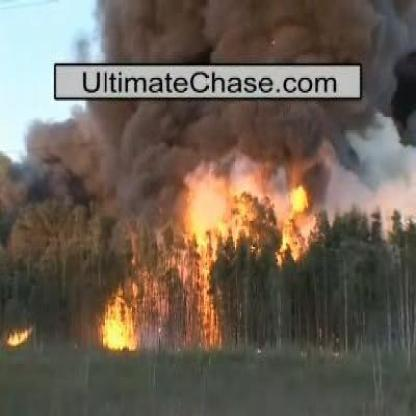-: (32, 108, 394, 194), (99, 6, 376, 59)
foggia-v2-map80-epoch100 - v1 4323: (104, 305, 136, 347), (8, 329, 32, 345)
